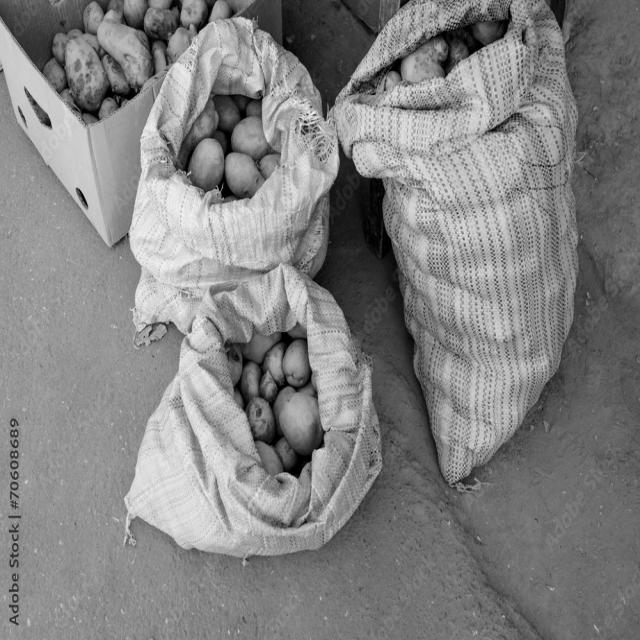sack: (333, 1, 580, 488), (123, 261, 383, 560), (128, 17, 339, 328)
